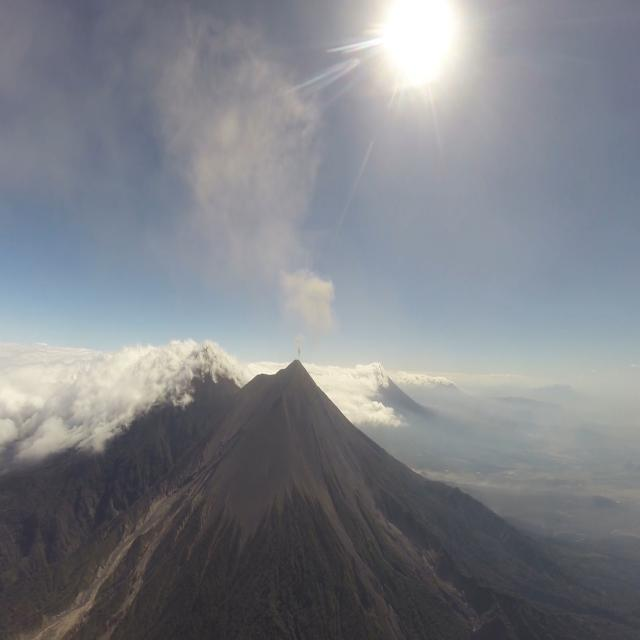Plume: (295, 334, 305, 357)
Summit: (276, 358, 312, 380)
